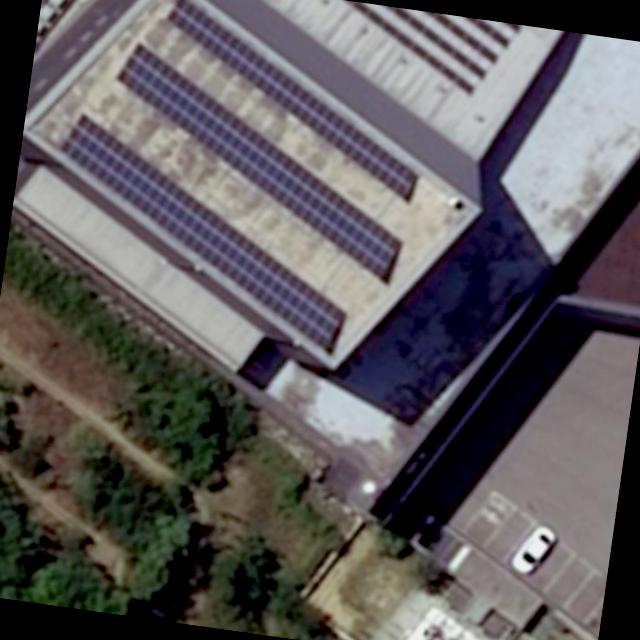solar: (38, 109, 370, 354), (91, 38, 423, 281), (144, 0, 440, 204)
